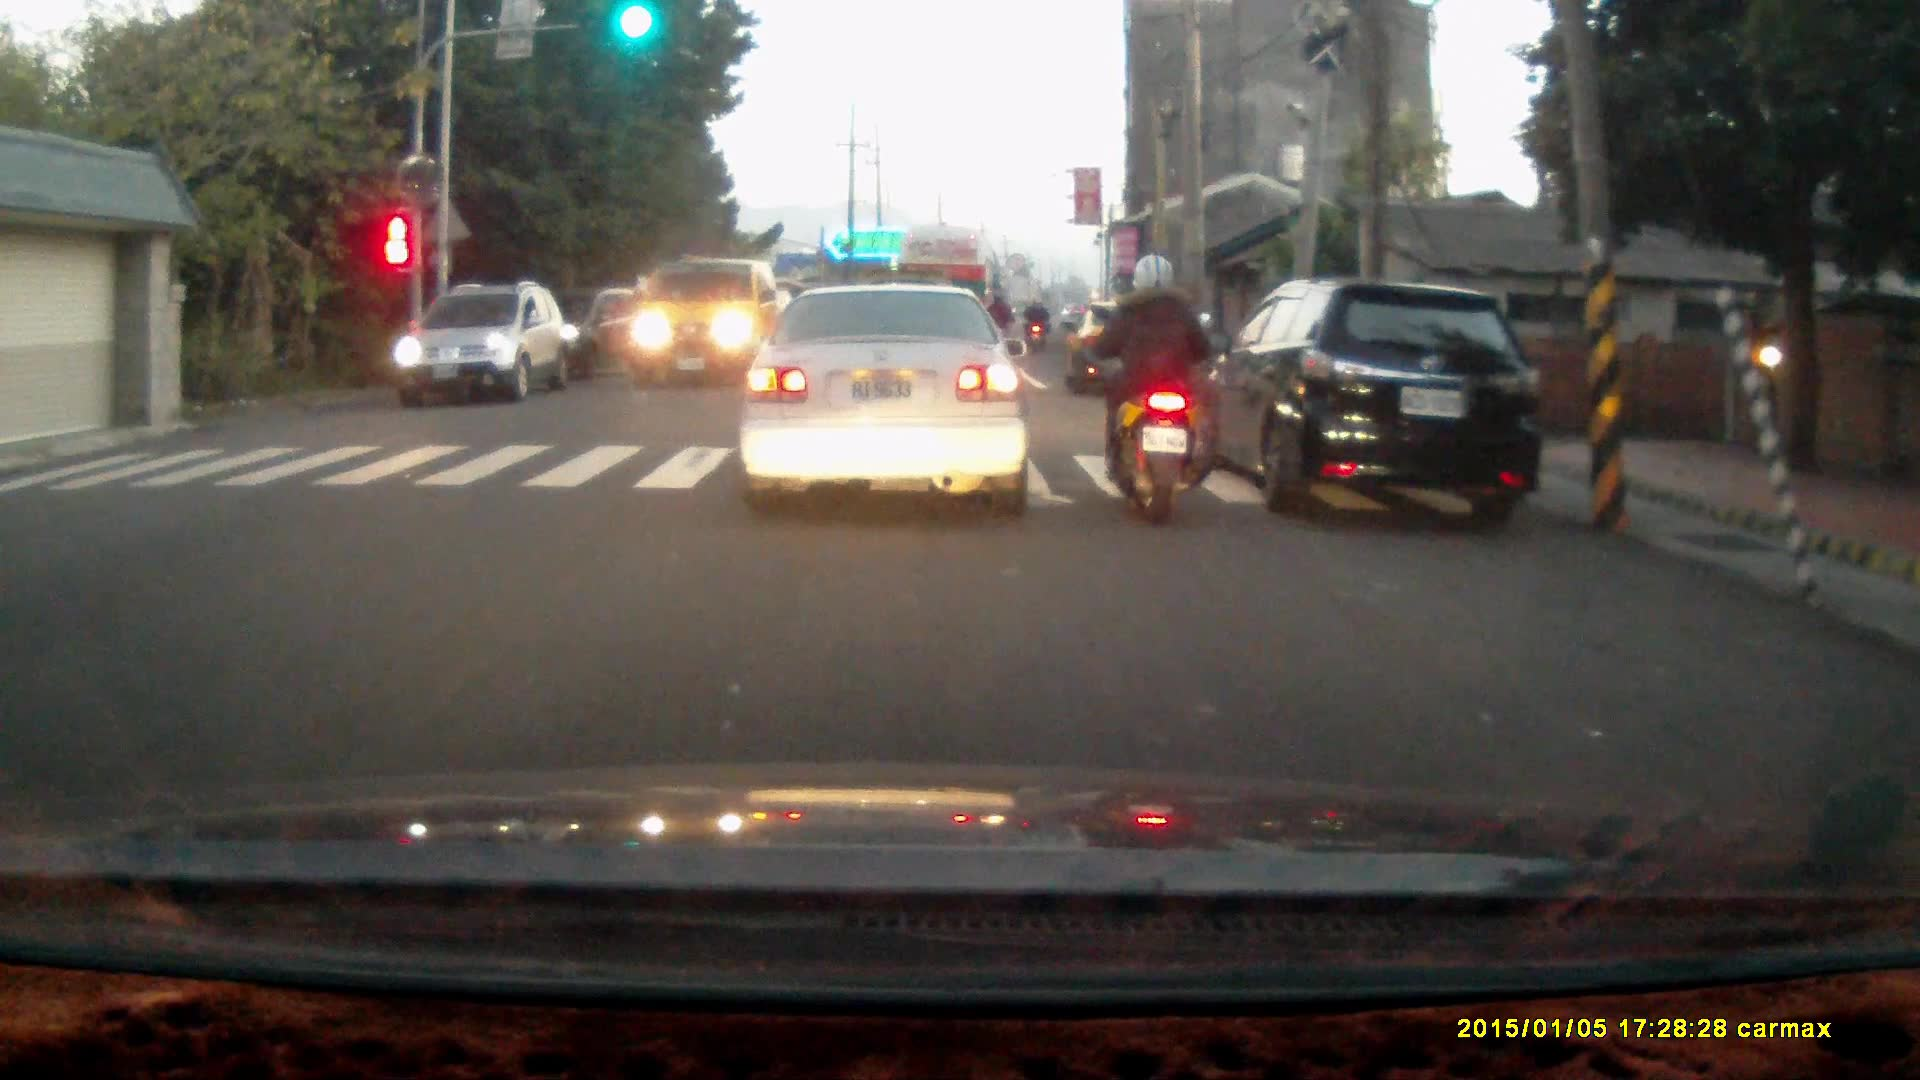rider: (1088, 248, 1215, 525)
vehicle: (1204, 268, 1552, 511), (740, 279, 1039, 516), (389, 276, 568, 410), (640, 256, 792, 382), (893, 224, 1005, 353), (506, 280, 651, 378), (1069, 293, 1189, 400)
